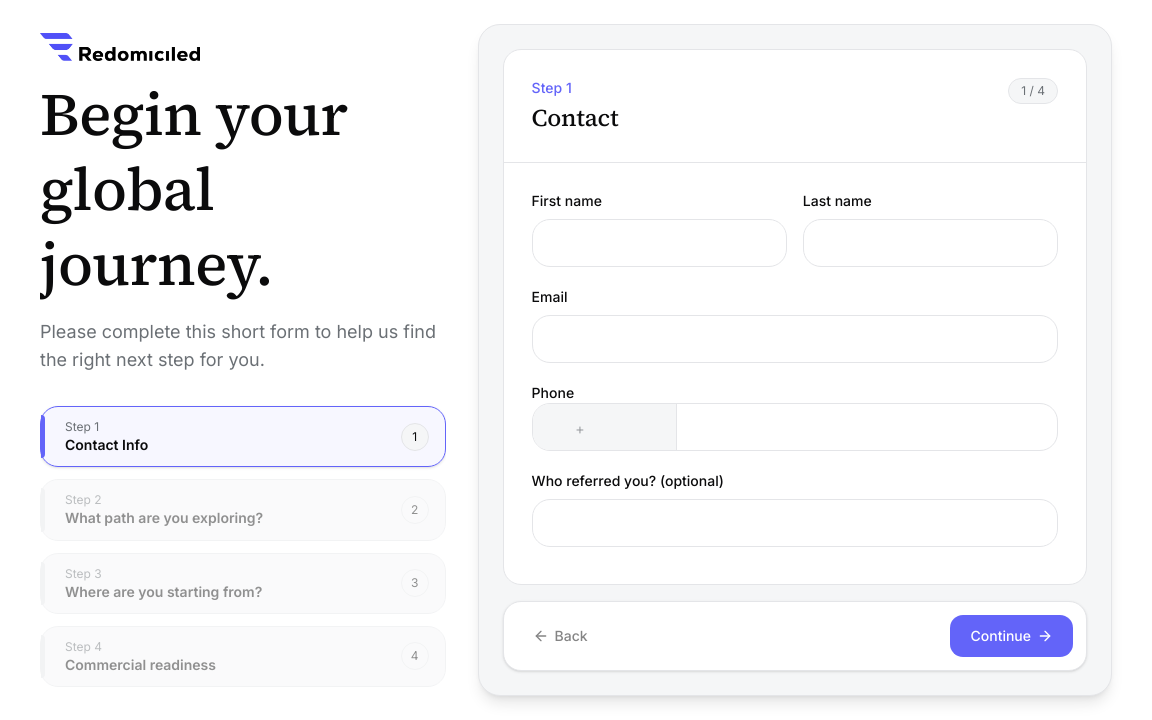
Test: Home › keeps the user on a step and shows errors when required answers are missing
This screenshot has width=1152, height=720.
Step 1. Click the button "Continue" → (1012, 636), box [950,614,1074,658]
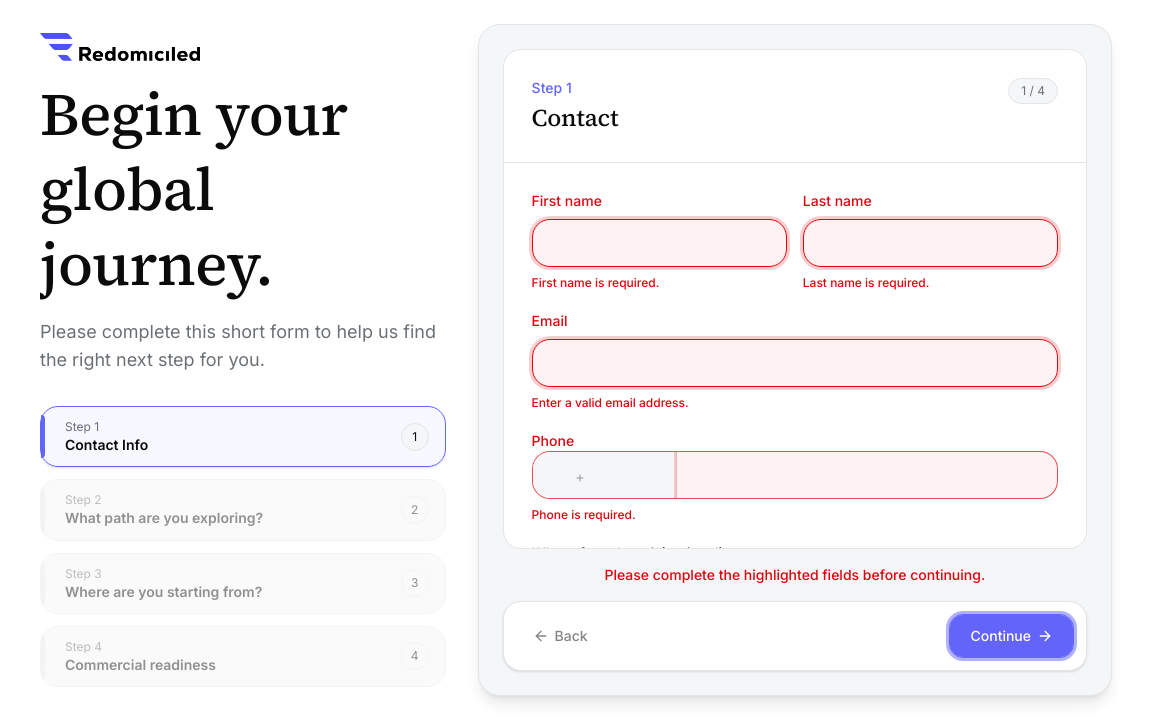
Expected: the heading "Contact" is shown, [532,102,618,134]
Now the text "Please complete the highlighted fields before continuing." is shown, box [604,565,985,585]
Now the text "First name is required." is shown, box [532,275,659,290]
